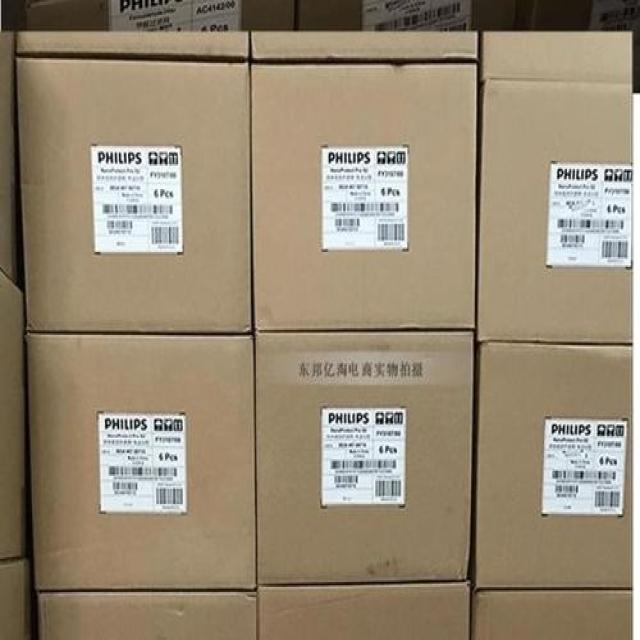box: (17, 58, 254, 334), (250, 63, 480, 332), (24, 333, 257, 592), (255, 328, 474, 586), (474, 81, 632, 347), (469, 344, 633, 592), (255, 579, 472, 638), (39, 588, 259, 638), (0, 268, 30, 560), (478, 30, 633, 85), (252, 28, 481, 65), (469, 590, 634, 638), (27, 1, 300, 28), (17, 31, 250, 60), (299, 1, 523, 26), (2, 31, 20, 289), (521, 3, 639, 30), (0, 555, 34, 635)
